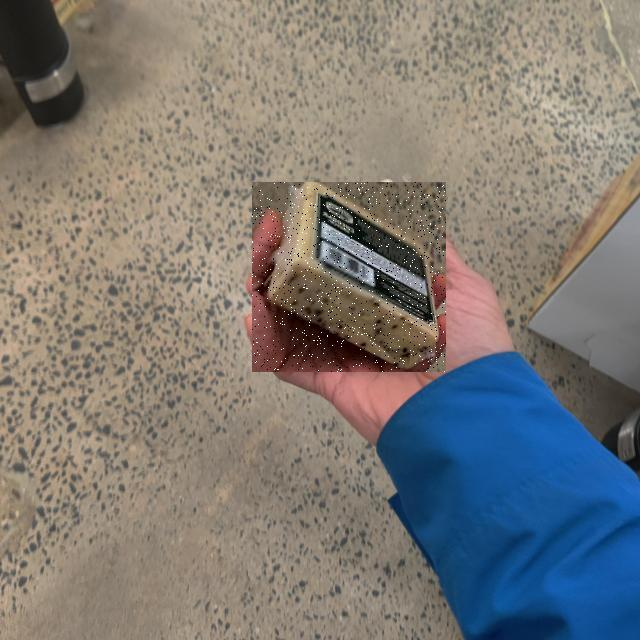Cheese: (252, 182, 446, 372)
